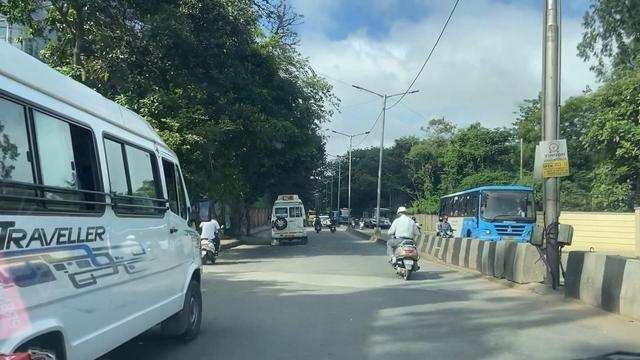HMV: (1, 39, 204, 360), (273, 193, 308, 252)
LMV: (388, 209, 429, 288), (207, 218, 222, 268)
